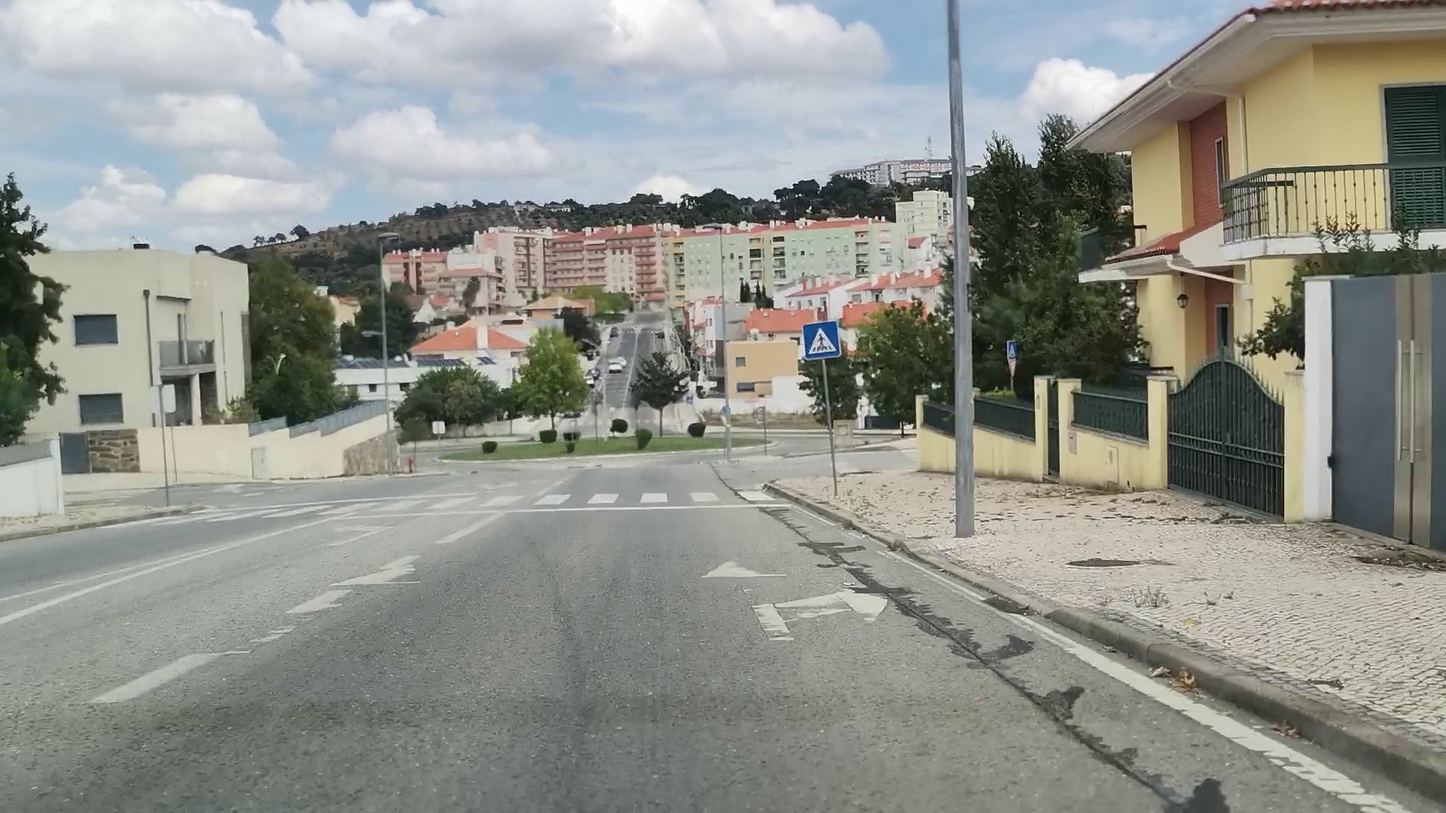Stairs: (105, 491, 781, 523)
